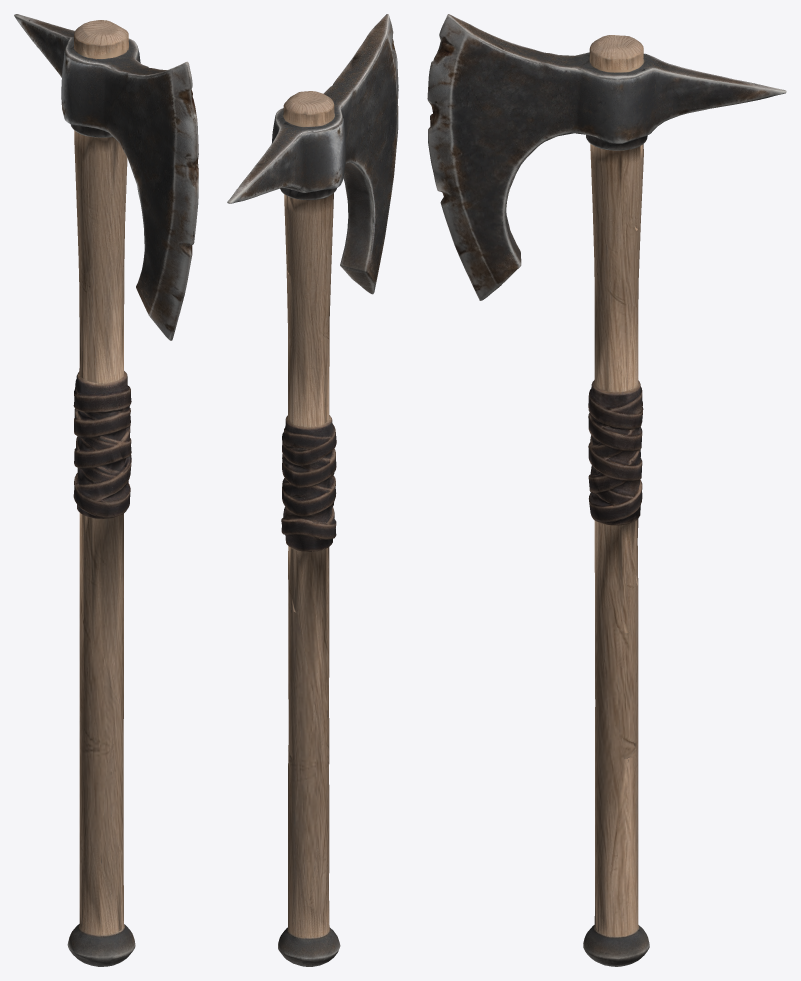
File: wpn_axe_iron.glb
3 views of the same model, side by side, from view 1: azimuth 30°, elevation 25°; view 2: azimuth 150°, elevation 25°; view 3: azimuth 270°, elevation 25° (orthographic). The views are drawn at different scales.
Parts seen in each view (by area): view 1: wpn_axe_iron; view 2: wpn_axe_iron; view 3: wpn_axe_iron.
Boxes of the visible parts, <box> form: wpn_axe_iron: <box>14,14,198,966</box>; wpn_axe_iron: <box>227,14,398,966</box>; wpn_axe_iron: <box>427,14,786,966</box>.
Bounding box in the file's own units: 0.0608 × 0.78 × 0.2683.
Materials: 1 (1 with a texture image).
